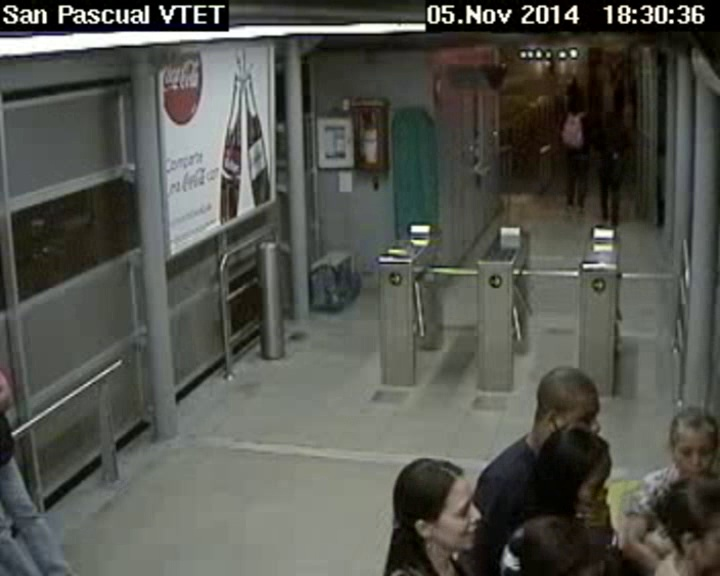person: (394, 451, 481, 556), (640, 467, 720, 568), (538, 424, 614, 526), (532, 361, 608, 445), (515, 508, 607, 576), (662, 400, 720, 479), (604, 110, 617, 130), (569, 98, 585, 114)
